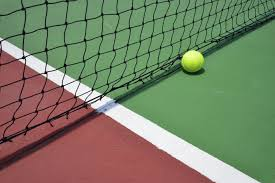tennis_ball: (181, 50, 204, 74)
